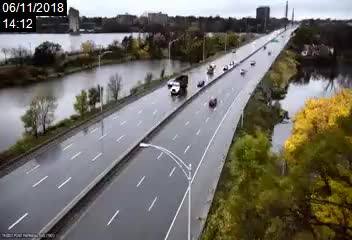personal_car: (205, 65, 215, 77), (207, 96, 218, 106), (165, 77, 177, 86), (195, 80, 205, 87), (238, 68, 246, 75), (221, 63, 229, 70)
truck: (169, 73, 189, 96)
